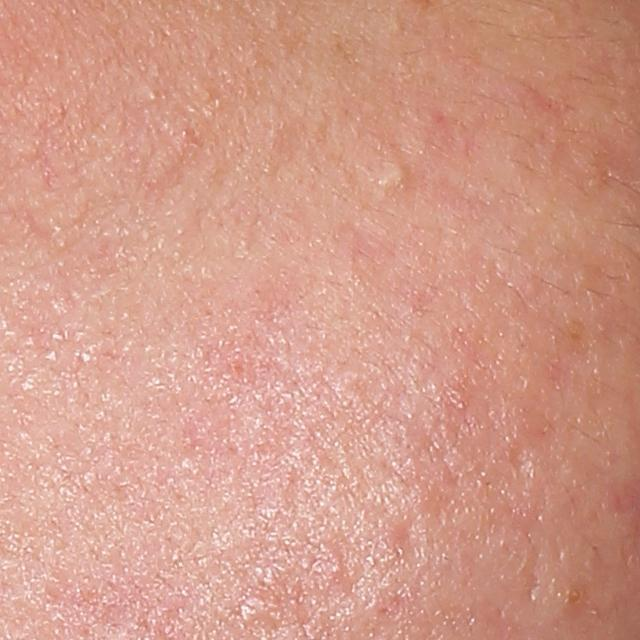atrophic_scar: (387, 514, 420, 558)
comedo: (363, 151, 417, 201), (561, 581, 589, 612), (144, 85, 161, 105)
